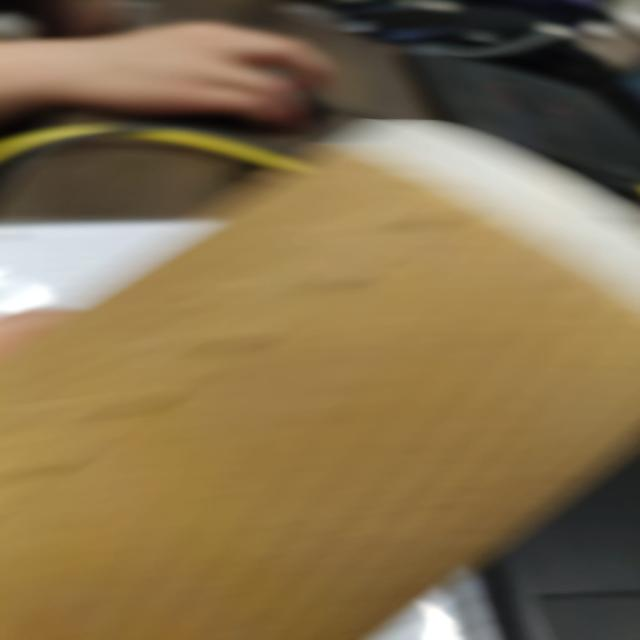Browncup: (0, 154, 640, 640)
